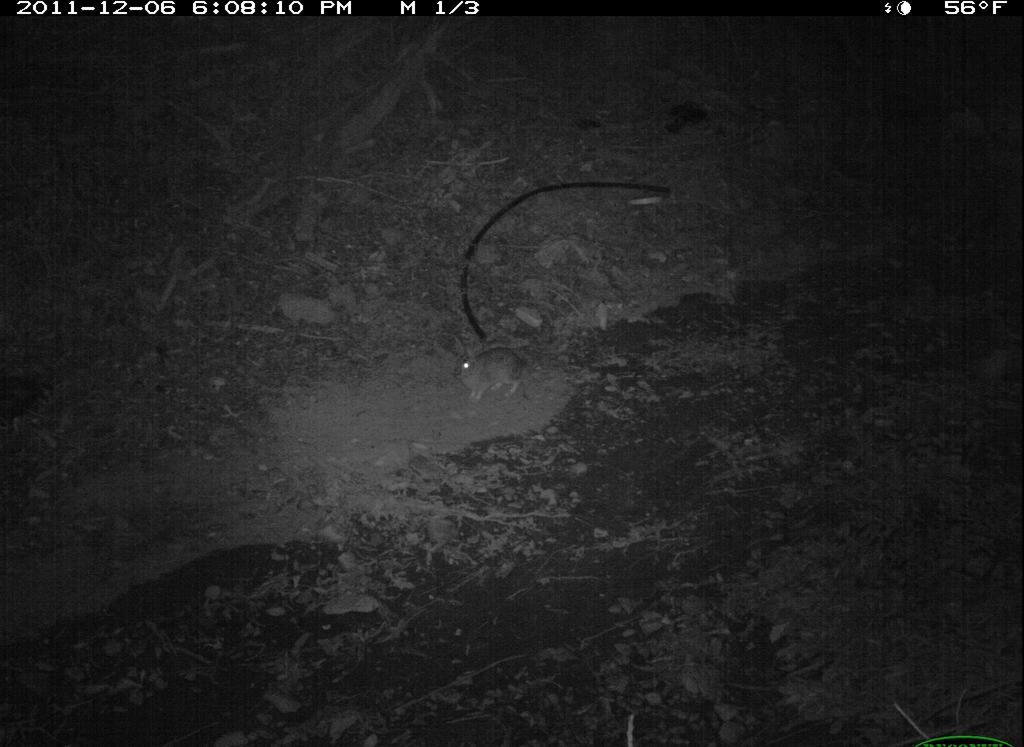rabbit: (445, 328, 539, 405)
